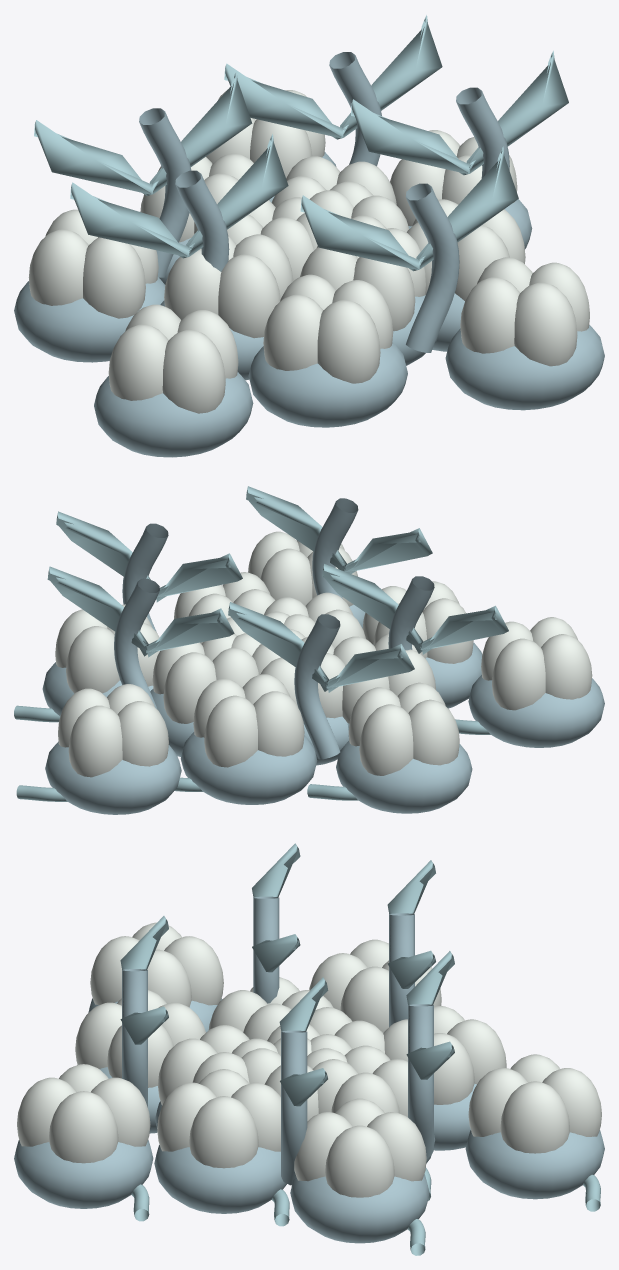
Rendered from bio_oxygen_reef_17_near.glb.
3 views of the same model, one above another, from view 1: azimuth 30°, elevation 25°; view 2: azimuth 150°, elevation 25°; view 3: azimuth 270°, elevation 25° (orthographic). The views are drawn at different scales.
Visible parts, largest first — view 1: Lobed gas sac.040, Lobed gas sac.028, Lobed gas sac.048, Lobed gas sac.036, Lobed gas sac.016, Photosynthetic cushion.012, Photosynthetic cushion.010, Photosynthetic cushion.007, Secondary fan lobe.008, Secondary fan lobe.002, Secondary fan lobe, Secondary fan lobe.004 (+19 smaller); view 2: Lobed gas sac.024, Lobed gas sac.044, Lobed gas sac.036, Lobed gas sac.048, Photosynthetic cushion.006, Photosynthetic cushion.011, Photosynthetic cushion.009, Photosynthetic cushion.012, Lobed gas sac.012, Lobed gas sac.032, Secondary fan lobe.002, Secondary fan lobe.008 (+22 smaller); view 3: Lobed gas sac.040, Lobed gas sac.044, Lobed gas sac.032, Lobed gas sac.020, Lobed gas sac.048, Photosynthetic cushion.010, Photosynthetic cushion.011, Photosynthetic cushion.008, Photosynthetic cushion.005, Lobed gas sac.024, Lobed gas sac.028, Lobed gas sac.036 (+16 smaller).
Boxes of the visible parts, x1,y1,x2,y2 form: Lobed gas sac.040: [460, 257, 589, 366]; Lobed gas sac.028: [263, 274, 393, 383]; Lobed gas sac.048: [108, 304, 238, 413]; Lobed gas sac.036: [28, 209, 158, 318]; Lobed gas sac.016: [164, 234, 293, 338]; Photosynthetic cushion.012: [94, 372, 253, 457]; Photosynthetic cushion.010: [445, 325, 604, 410]; Photosynthetic cushion.007: [248, 342, 407, 427]; Secondary fan lobe.008: [70, 134, 288, 258]; Secondary fan lobe.002: [34, 71, 252, 195]; Secondary fan lobe: [351, 50, 568, 175]; Secondary fan lobe.004: [300, 146, 518, 271]; Lobed gas sac.024: [193, 674, 304, 767]; Lobed gas sac.044: [58, 684, 168, 777]; Lobed gas sac.036: [348, 682, 459, 775]; Lobed gas sac.048: [481, 617, 592, 710]; Photosynthetic cushion.006: [180, 732, 317, 804]; Photosynthetic cushion.011: [45, 741, 181, 814]; Photosynthetic cushion.009: [336, 740, 472, 813]; Photosynthetic cushion.012: [468, 675, 604, 747]; Lobed gas sac.012: [152, 633, 258, 723]; Lobed gas sac.032: [55, 604, 159, 693]; Secondary fan lobe.002: [228, 602, 414, 692]; Secondary fan lobe.008: [322, 564, 508, 654]; Lobed gas sac.040: [17, 1064, 150, 1163]; Lobed gas sac.044: [468, 1054, 601, 1153]; Lobed gas sac.032: [294, 1098, 426, 1197]; Lobed gas sac.020: [157, 1069, 280, 1168]; Lobed gas sac.048: [90, 922, 223, 1007]; Photosynthetic cushion.010: [14, 1140, 153, 1208]; Photosynthetic cushion.011: [465, 1130, 604, 1199]; Photosynthetic cushion.008: [290, 1174, 429, 1243]; Photosynthetic cushion.005: [154, 1145, 286, 1213]; Lobed gas sac.024: [383, 1006, 506, 1104]; Lobed gas sac.028: [75, 990, 205, 1087]; Lobed gas sac.036: [309, 939, 441, 1032].
Size of the model in its own units: 2 by 0.765 by 2.03.
